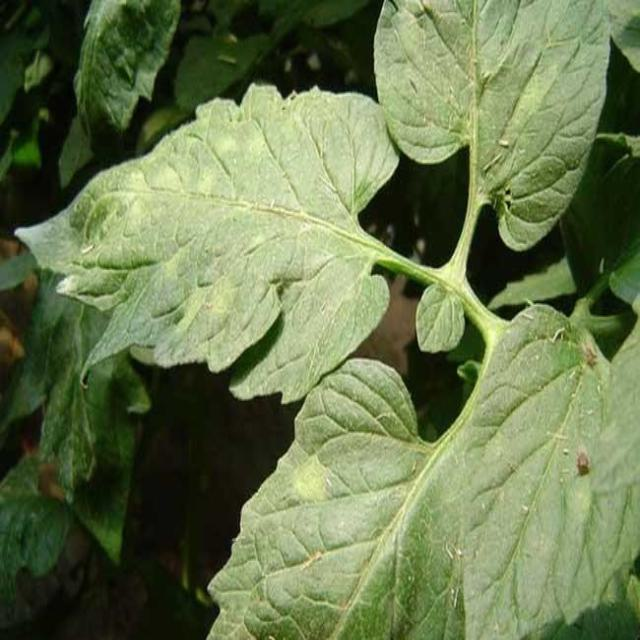Leaf_Mold: (80, 88, 399, 403), (286, 455, 340, 505)
